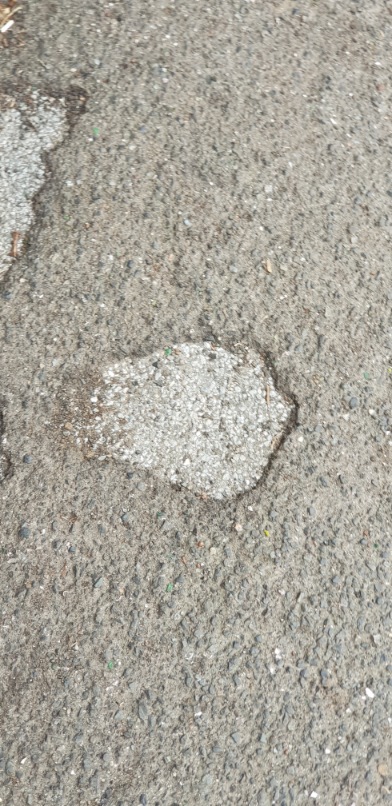pothole: (63, 327, 302, 507), (0, 84, 87, 303)
